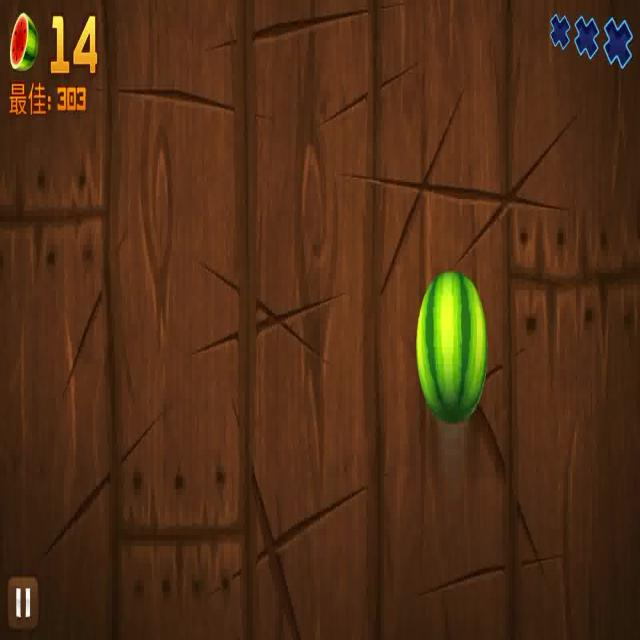fruit: (413, 263, 491, 437)
